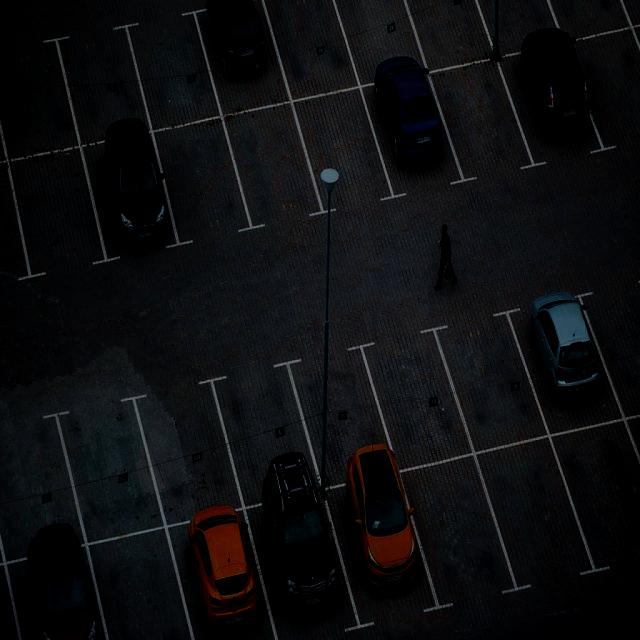empty: (407, 452, 496, 606), (490, 436, 578, 586), (9, 146, 102, 279), (158, 120, 250, 248), (230, 100, 320, 228), (562, 419, 638, 570), (379, 321, 457, 464), (451, 306, 527, 450), (300, 84, 386, 210), (305, 341, 381, 480), (441, 58, 525, 183), (150, 379, 222, 521), (225, 364, 298, 504), (135, 5, 210, 132), (73, 406, 143, 542), (95, 532, 183, 640), (0, 414, 64, 560), (65, 24, 137, 145), (0, 34, 68, 158), (267, 1, 348, 103), (581, 26, 640, 146), (598, 276, 640, 420), (337, 0, 407, 82), (0, 160, 29, 291)
occupied: (252, 486, 341, 639), (336, 464, 416, 628), (174, 508, 263, 640), (88, 130, 173, 266), (364, 64, 446, 200), (523, 291, 599, 428), (514, 35, 590, 160), (200, 1, 274, 114), (14, 542, 101, 638), (0, 556, 21, 637)
